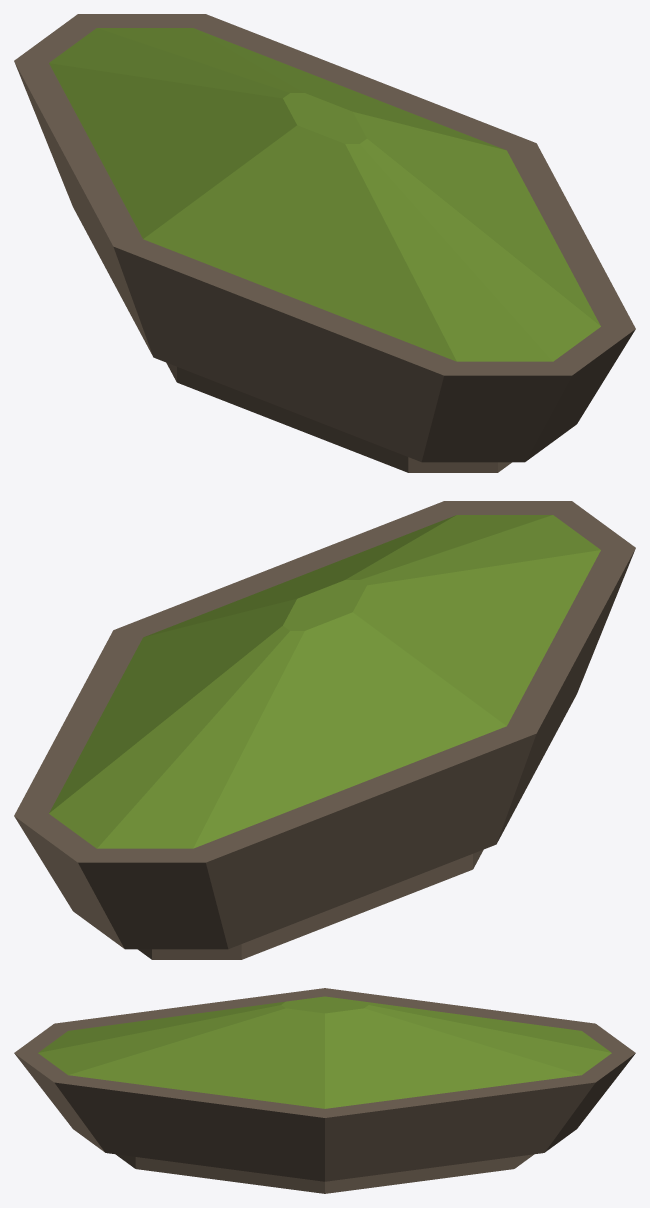
The model's file is Stellaj 2.fbx.
The picture shows the model from 3 angles, top to bottom: view 1: azimuth 30°, elevation 25°; view 2: azimuth 150°, elevation 25°; view 3: azimuth 270°, elevation 25°; orthographic projection. The views are drawn at different scales.
Visible parts, largest first — view 1: Stellaj 2; view 2: Stellaj 2; view 3: Stellaj 2.
Part boxes in pixels (left/top/right/bottom): Stellaj 2: left=14, top=14, right=635, bottom=472; Stellaj 2: left=14, top=501, right=635, bottom=959; Stellaj 2: left=14, top=988, right=635, bottom=1193.
Size of the model in its own units: 546 by 281 by 1104.
